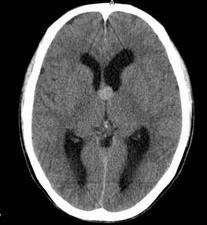Normal_Brain: (1, 4, 207, 225)
